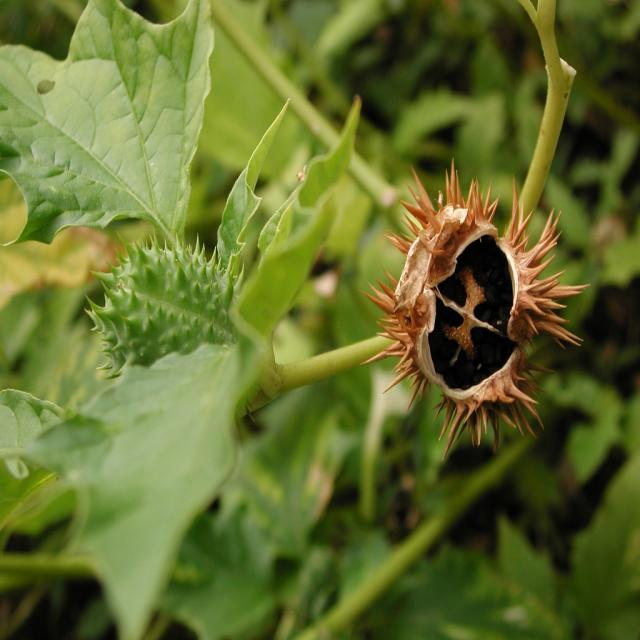Poisonous-Datura_Stramonium: (11, 0, 240, 259), (382, 174, 590, 441), (77, 235, 265, 451)
